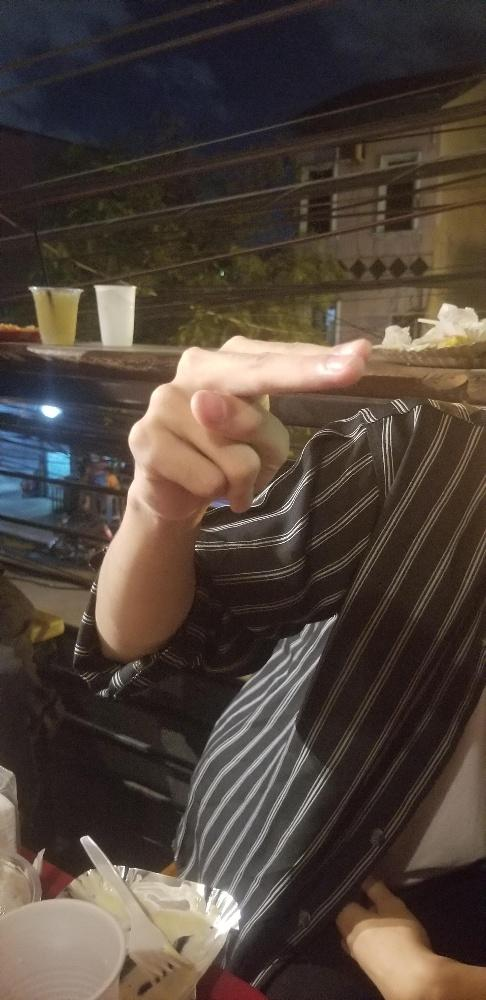n: (124, 332, 373, 512)
